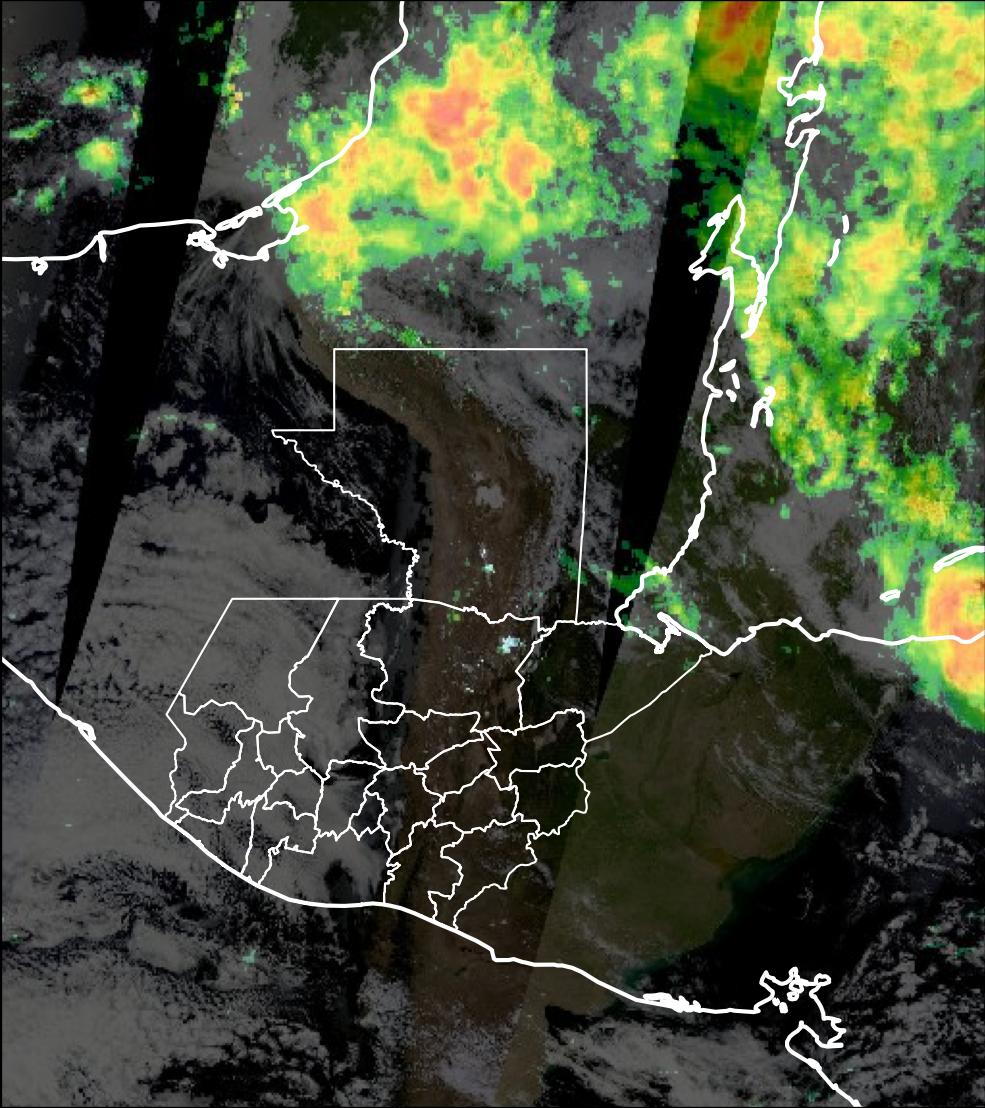precipitacion: (406, 76, 554, 238), (929, 551, 985, 706)
